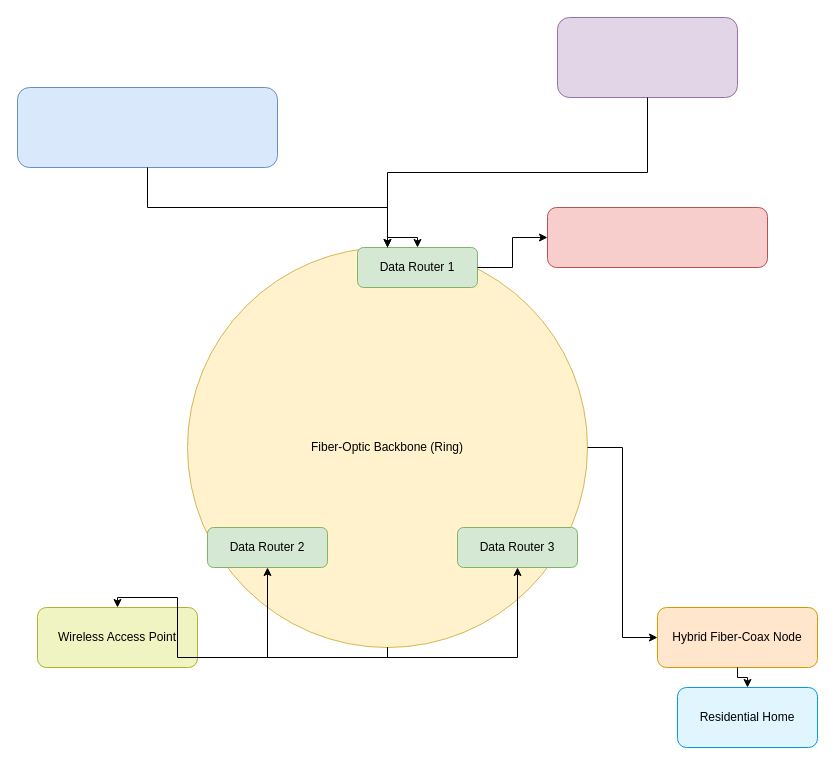
This 835x765 diagram has some shape labels left out. The centre of each missing label's shape, as x and y in pixels:
"Business Premises (Media Converter, 100 Mbps Switch)" belongs at pixel 657 237.
"Cable Modem Router" belongs at pixel 647 57.
"MFN Headend (3 Routers, Cable Modem Router)" belongs at pixel 147 127.
